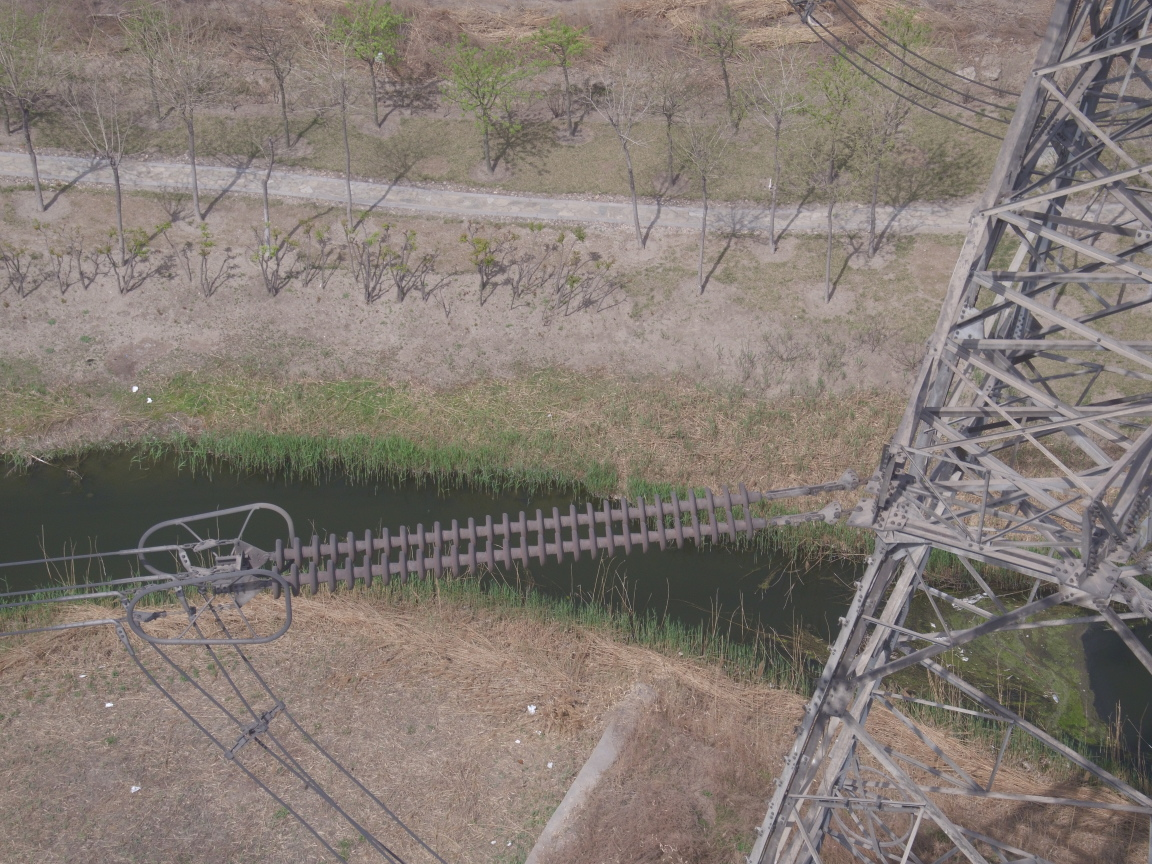insulator: (244, 477, 825, 600)
